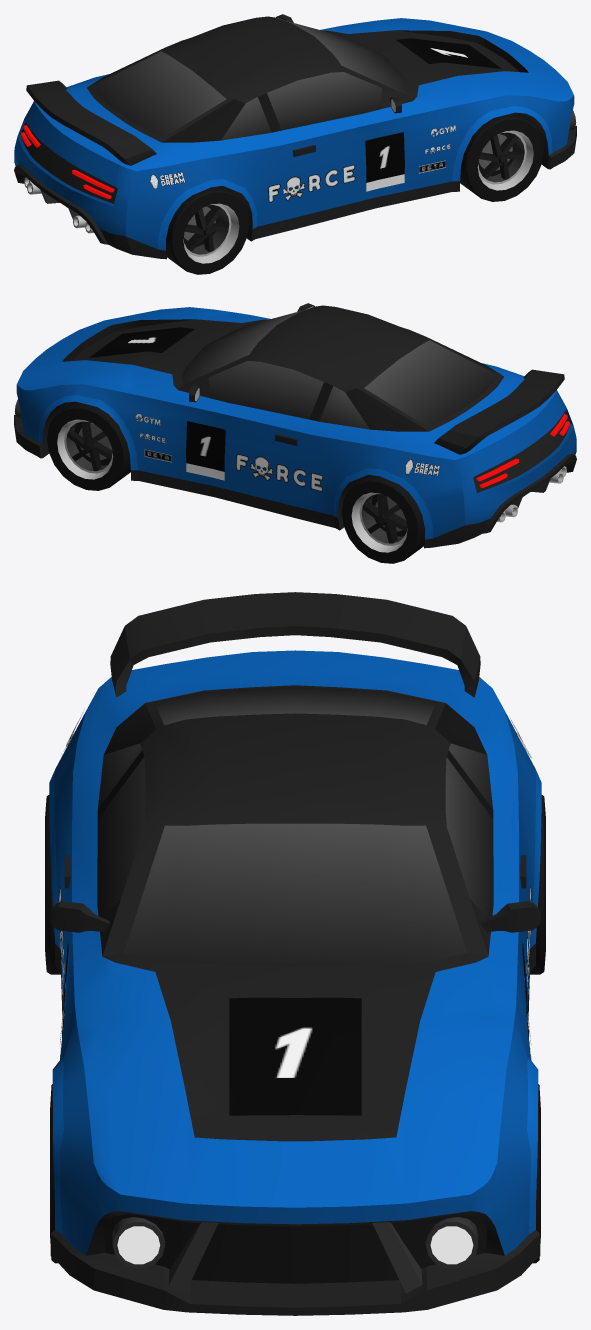
Rendered from RaceCar_053.glb.
3 renders of one model, top to bottom at view 1: azimuth 30°, elevation 25°; view 2: azimuth 150°, elevation 25°; view 3: azimuth 270°, elevation 25°, orthographic. The views are drawn at different scales.
Visible parts, largest first — view 1: RaceCar_053, wheel_1_RaceCar_053_Wheel_1R, wheel_3_RaceCar_053_Wheel_2R; view 2: RaceCar_053, wheel_0_RaceCar_053_Wheel_1L, wheel_2_RaceCar_053_Wheel_2L; view 3: RaceCar_053, wheel_2_RaceCar_053_Wheel_2L, wheel_3_RaceCar_053_Wheel_2R.
Boxes of the visible parts, <box> form: RaceCar_053: <box>14,14,576,259</box>; wheel_1_RaceCar_053_Wheel_1R: <box>460,112,543,201</box>; wheel_3_RaceCar_053_Wheel_2R: <box>166,186,249,274</box>; RaceCar_053: <box>14,303,576,548</box>; wheel_0_RaceCar_053_Wheel_1L: <box>47,401,130,490</box>; wheel_2_RaceCar_053_Wheel_2L: <box>341,475,425,563</box>; RaceCar_053: <box>49,592,541,1315</box>; wheel_2_RaceCar_053_Wheel_2L: <box>530,795,545,974</box>; wheel_3_RaceCar_053_Wheel_2R: <box>45,795,60,974</box>.
Bounding box in the file's own units: 4.88 × 1.45 × 2.09.
3 materials, 3 textured.
